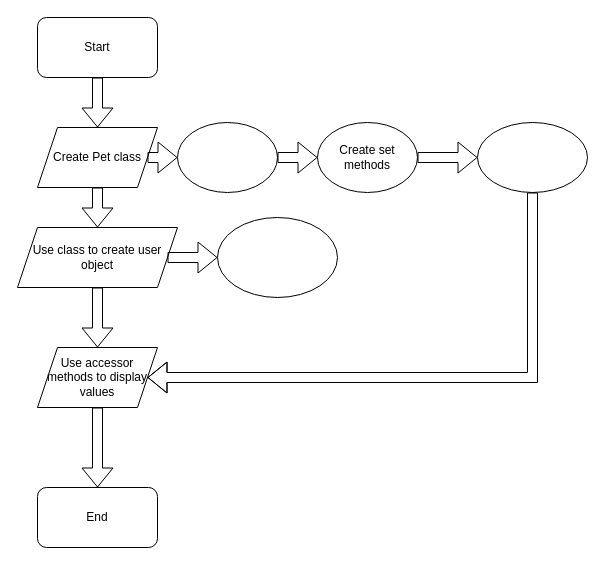
Some shapes in this 605 by 565 pixel diagram are drawn without their labels. The centre of each missing label's shape, as x and y in pixels:
Add attribute placeholders: the point at 227,157
Create get accessor methods: the point at 532,157
Use input to assign the values from user: the point at 277,257
